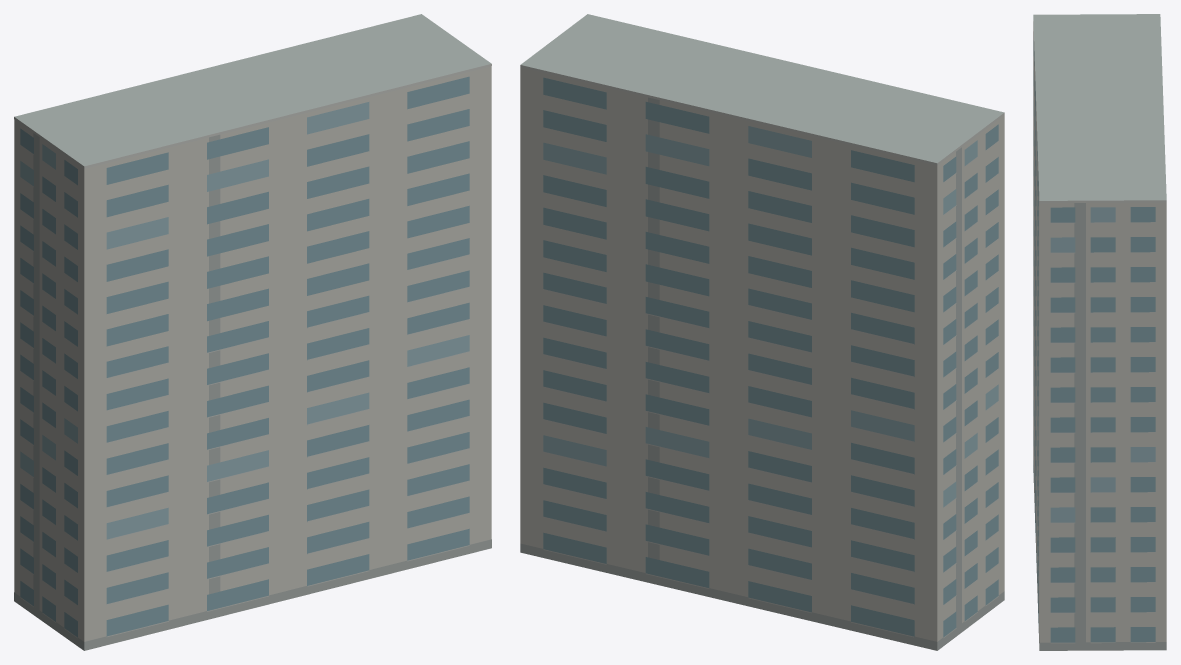
The model's file is residential-cf0bbdf0-410d-48e1-b9cd-503cd4039d39.glb.
3 renders of one model, left to right at view 1: azimuth 30°, elevation 25°; view 2: azimuth 150°, elevation 25°; view 3: azimuth 270°, elevation 25°, orthographic. The views are drawn at different scales.
Parts seen in each view (by area): view 1: residential-cf0bbdf0-410d-48e1-b9cd-503cd4039d39.tmp; view 2: residential-cf0bbdf0-410d-48e1-b9cd-503cd4039d39.tmp; view 3: residential-cf0bbdf0-410d-48e1-b9cd-503cd4039d39.tmp.
Part boxes in pixels (bbox=[...]): residential-cf0bbdf0-410d-48e1-b9cd-503cd4039d39.tmp: bbox=[14, 14, 491, 650]; residential-cf0bbdf0-410d-48e1-b9cd-503cd4039d39.tmp: bbox=[520, 14, 1004, 650]; residential-cf0bbdf0-410d-48e1-b9cd-503cd4039d39.tmp: bbox=[1033, 14, 1166, 650].
Bounding box in the file's own units: 43.68 × 49 × 13.18.
